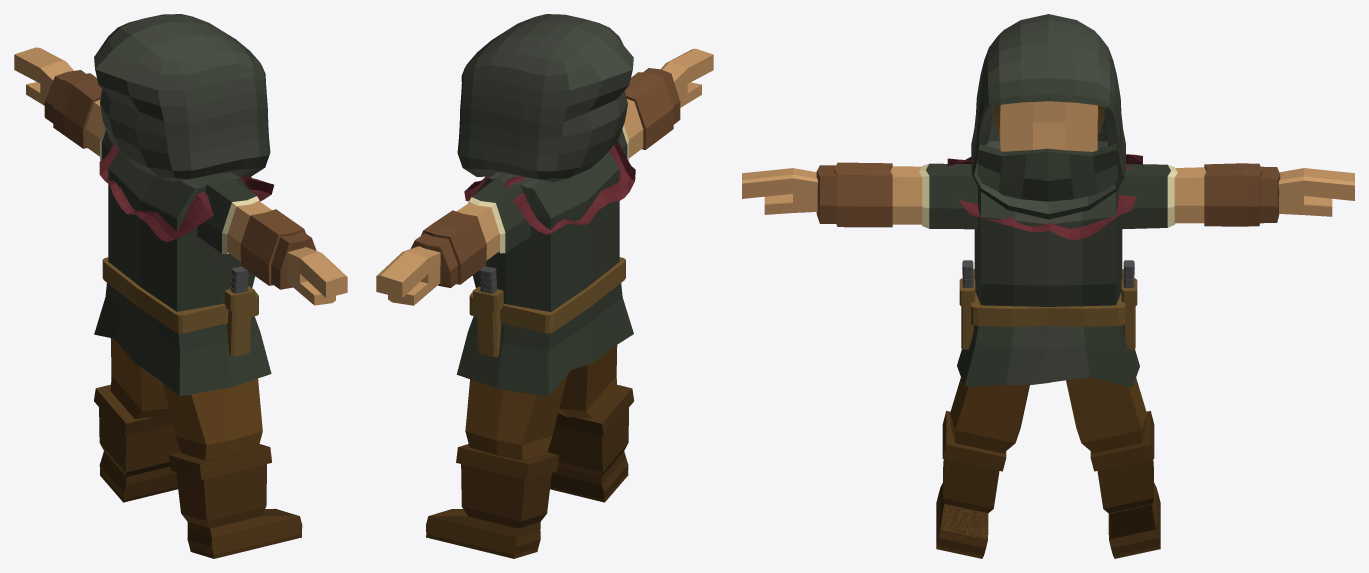
File: bandit.fbx
3 views of the same model, side by side, from view 1: azimuth 30°, elevation 25°; view 2: azimuth 150°, elevation 25°; view 3: azimuth 270°, elevation 25° (orthographic).
Visible parts, largest first — view 1: Cube.002, Cube.009, Cube.011, Cube.003, Plane, Cube.008, Cube.006, Cube.007; view 2: Cube.002, Cube.009, Cube.011, Cube.003, Cube.007, Plane, Cube.006, Cube.008; view 3: Cube.002, Cube.009, Cube.011, Cube, Cube.010, Cube.003, Cube.007, Cube.008, Cube.006, Plane.
Part boxes in pixels (left/top/right/bottom): Cube.002: left=44, top=70, right=316, bottom=396; Cube.009: left=94, top=338, right=302, bottom=558; Cube.011: left=94, top=14, right=270, bottom=181; Cube.003: left=102, top=257, right=258, bottom=333; Plane: left=99, top=144, right=273, bottom=241; Cube.008: left=287, top=247, right=347, bottom=305; Cube.006: left=224, top=266, right=255, bottom=356; Cube.007: left=14, top=47, right=73, bottom=105; Cube.002: left=411, top=68, right=680, bottom=396; Cube.009: left=426, top=345, right=633, bottom=558; Cube.011: left=457, top=14, right=633, bottom=182; Cube.003: left=469, top=257, right=625, bottom=333; Cube.007: left=376, top=246, right=440, bottom=305; Plane: left=464, top=141, right=635, bottom=234; Cube.006: left=472, top=266, right=503, bottom=356; Cube.008: left=661, top=48, right=713, bottom=107; Cube.002: left=816, top=162, right=1280, bottom=387; Cube.009: left=936, top=377, right=1160, bottom=558; Cube.011: left=971, top=14, right=1125, bottom=219; Cube: left=977, top=143, right=1117, bottom=201; Cube.010: left=993, top=101, right=1104, bottom=151; Cube.003: left=971, top=269, right=1125, bottom=326; Cube.007: left=1278, top=168, right=1354, bottom=216; Cube.008: left=742, top=168, right=818, bottom=214; Cube.006: left=959, top=260, right=1137, bottom=349; Plane: left=947, top=154, right=1143, bottom=239.
Size of the model in its own units: 58.52 by 186 by 209.
